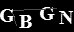B: (18, 14, 33, 29)
G: (39, 6, 55, 21), (1, 8, 13, 22)
N: (58, 10, 74, 24)
